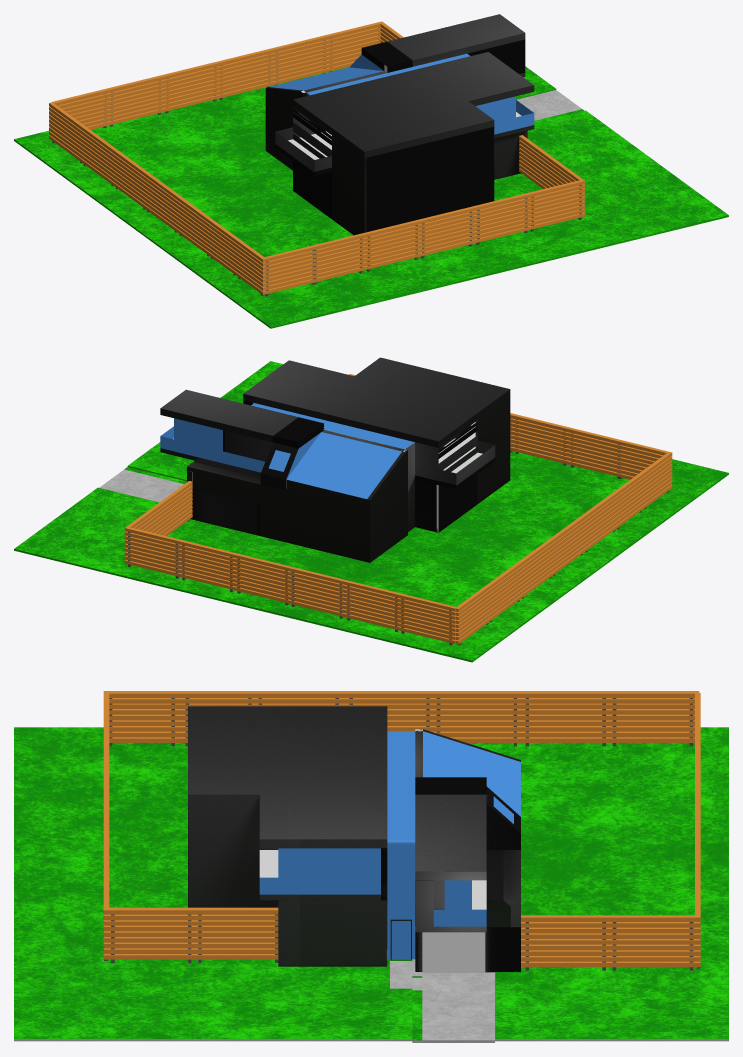
Rendered from Modern House.fbx.
3 renders of one model, top to bottom at view 1: azimuth 30°, elevation 25°; view 2: azimuth 150°, elevation 25°; view 3: azimuth 270°, elevation 25°, orthographic. The views are drawn at different scales.
Visible parts, largest first — view 1: Ground, Garage Door, Cube.001; view 2: Garage Door, Ground, Cube.001; view 3: Ground, Garage Door, Cube.001.
Part boxes in pixels (x1,y1,x2,y2): Ground: (14,66,728,328); Garage Door: (265,14,534,235); Cube.001: (49,21,585,296); Garage Door: (160,357,510,562); Ground: (14,361,728,662); Cube.001: (124,374,672,645); Ground: (14,727,728,1042); Garage Door: (188,706,520,972); Cube.001: (103,691,700,970).
Size of the model in its own units: 3744 by 750 by 3632.
